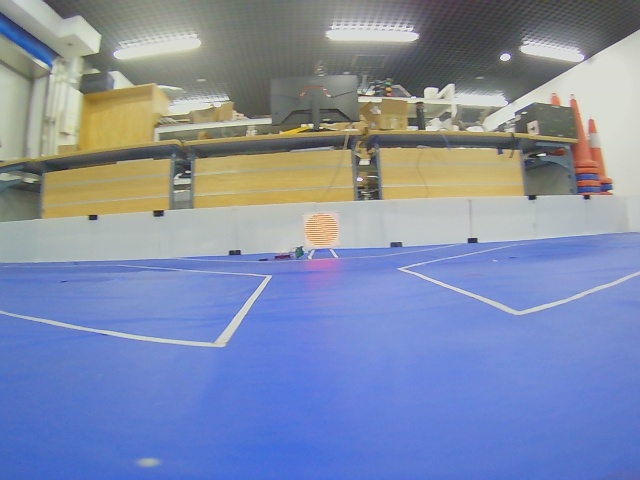red: (304, 213, 339, 249)
